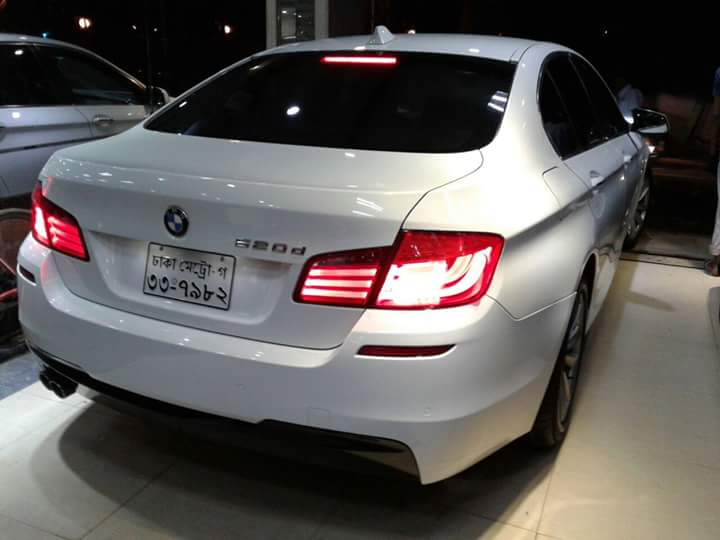registration_plate: (143, 243, 235, 310)
